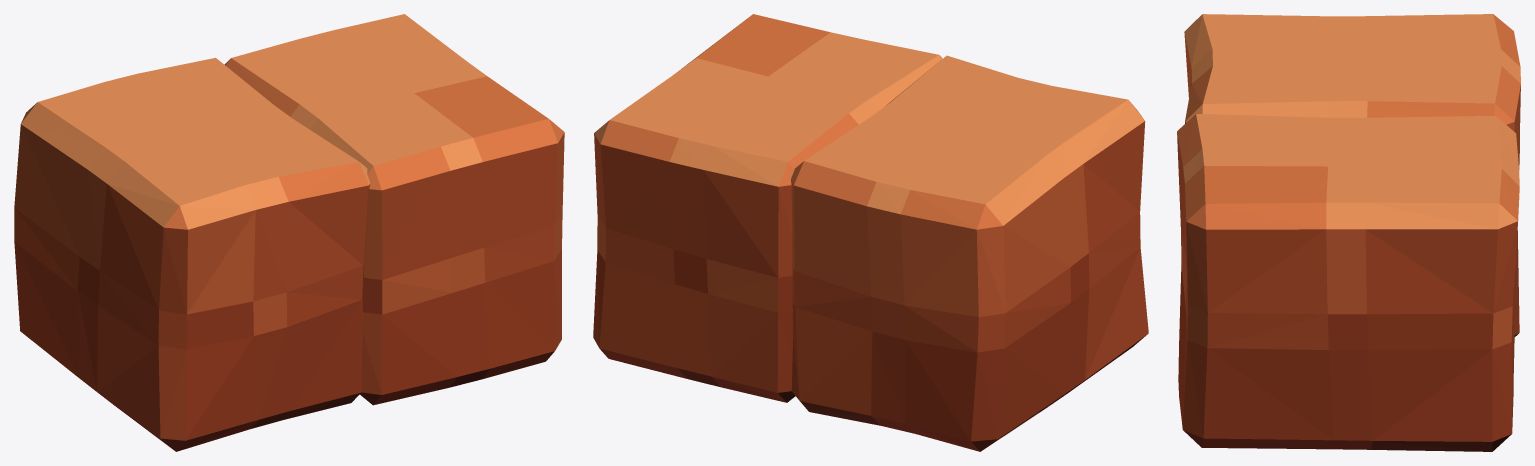
File: SM_ROCK_S_08.fbx
3 renders of one model, left to right at view 1: azimuth 30°, elevation 25°; view 2: azimuth 150°, elevation 25°; view 3: azimuth 270°, elevation 25°, orthographic. The views are drawn at different scales.
Visible parts, largest first — view 1: ROCK_S_08; view 2: ROCK_S_08; view 3: ROCK_S_08.
Part boxes in pixels (x1,y1,x2,y2): ROCK_S_08: (14,14,564,451); ROCK_S_08: (593,14,1148,451); ROCK_S_08: (1177,14,1520,451).
Bounding box in the file's own units: 1.24 × 0.8733 × 0.7026.
